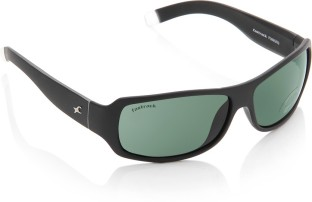sunglasses: (2, 9, 310, 181)
